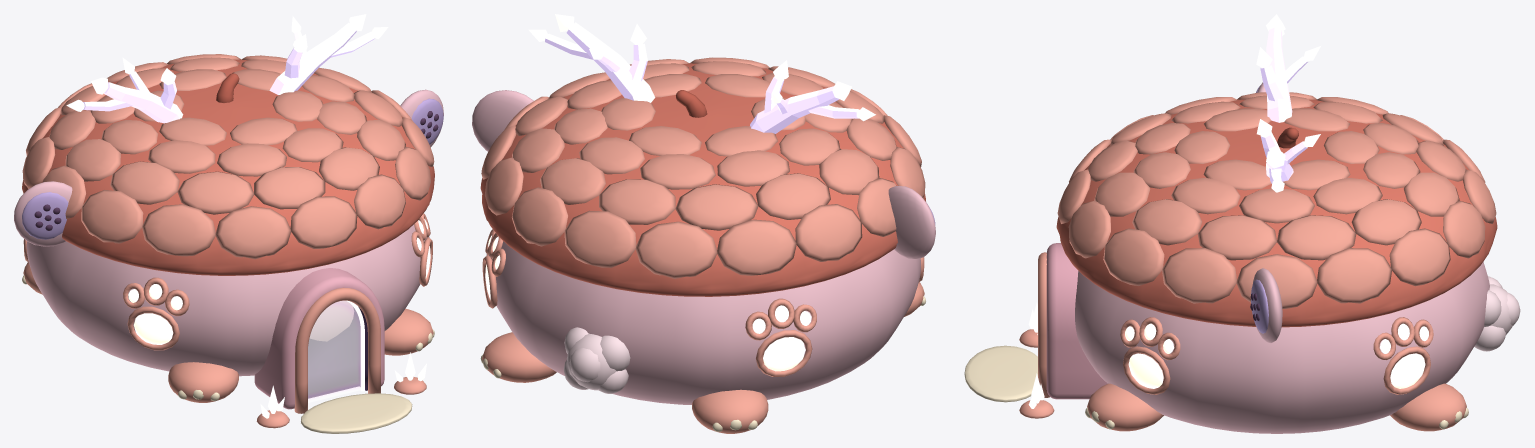
The model's file is house_04_0409.fbx.
3 renders of one model, left to right at view 1: azimuth 30°, elevation 25°; view 2: azimuth 150°, elevation 25°; view 3: azimuth 270°, elevation 25°, orthographic. The views are drawn at different scales.
Parts seen in each view (by area): view 1: House_AcornCap_Scales, House_Body, House_AcornCap, House_Entrance, House_CrystalAntlers, House_GlowMembrane, House_Paws, House_EntranceStep, House_DoorRim, House_PawWindows_Rim, House_EarVent_Inner, House_EarVent_Shell (+7 smaller); view 2: House_AcornCap_Scales, House_Body, House_AcornCap, House_CrystalAntlers, House_Paws, House_EarVent_Shell, House_Tail, House_PawWindows_Rim, House_PawWindows_Glow, House_AntlerGlowTips, House_CapStem; view 3: House_AcornCap_Scales, House_Body, House_AcornCap, House_Entrance, House_Paws, House_PawWindows_Rim, House_EntranceStep, House_CrystalAntlers, House_PawWindows_Glow, House_Tail, House_AntlerGlowTips, House_DoorRim (+3 smaller).
Boxes of the visible parts, box(x1,y1,x2,y2) form: House_AcornCap_Scales: box(22, 54, 434, 259); House_Body: box(26, 224, 429, 376); House_AcornCap: box(22, 59, 434, 275); House_Entrance: box(254, 268, 384, 409); House_CrystalAntlers: box(83, 22, 375, 123); House_GlowMembrane: box(308, 300, 360, 402); House_Paws: box(23, 262, 433, 402); House_EntranceStep: box(301, 393, 412, 433); House_DoorRim: box(294, 287, 380, 413); House_PawWindows_Rim: box(23, 213, 432, 350); House_EarVent_Inner: box(22, 98, 443, 239); House_EarVent_Shell: box(14, 89, 443, 246); House_AcornCap_Scales: box(481, 57, 925, 278); House_Body: box(486, 241, 920, 404); House_AcornCap: box(480, 63, 925, 296); House_CrystalAntlers: box(545, 22, 859, 133); House_Paws: box(482, 282, 924, 433); House_EarVent_Shell: box(472, 90, 935, 259); House_Tail: box(563, 327, 630, 393); House_PawWindows_Rim: box(482, 229, 924, 376); House_PawWindows_Glow: box(485, 235, 811, 371); House_AntlerGlowTips: box(528, 14, 875, 121); House_CapStem: box(676, 90, 707, 117); House_AcornCap_Scales: box(1057, 92, 1496, 308); House_Body: box(1075, 262, 1489, 433); House_AcornCap: box(1056, 99, 1497, 327); House_Entrance: box(1046, 243, 1107, 399); House_Paws: box(1087, 383, 1466, 431); House_PawWindows_Rim: box(1120, 317, 1433, 394); House_EntranceStep: box(964, 345, 1037, 402); House_CrystalAntlers: box(1260, 28, 1307, 183); House_PawWindows_Glow: box(1125, 323, 1428, 388); House_Tail: box(1474, 276, 1520, 351); House_AntlerGlowTips: box(1256, 14, 1320, 192); House_DoorRim: box(1038, 252, 1049, 397).
Size of the model in its own units: 6.38 by 3.94 by 6.76.
